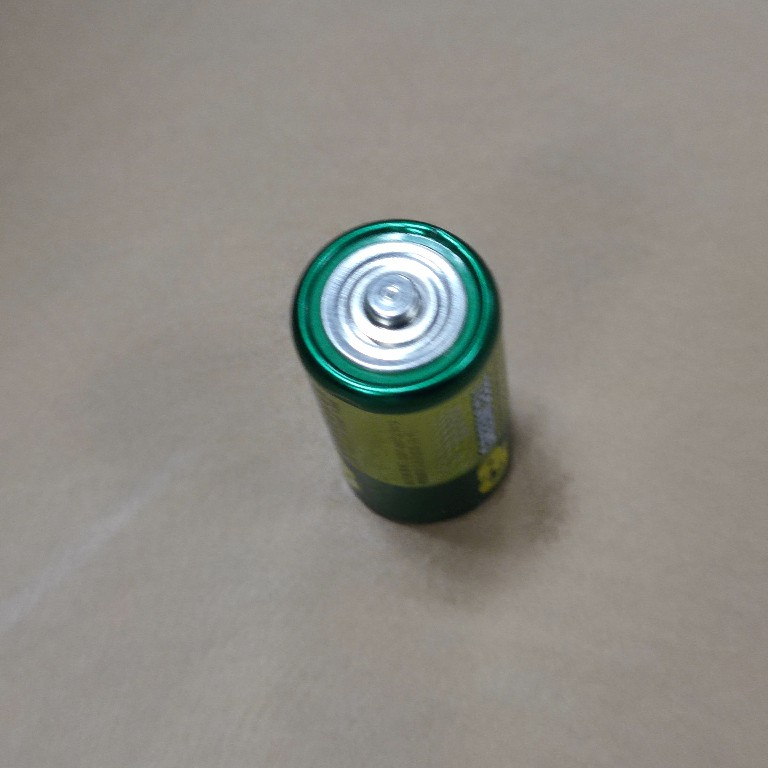charge: (291, 216, 524, 533)
